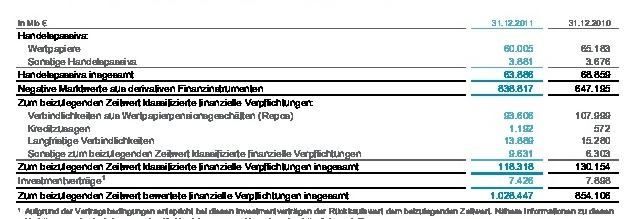table: (0, 0, 633, 219)
